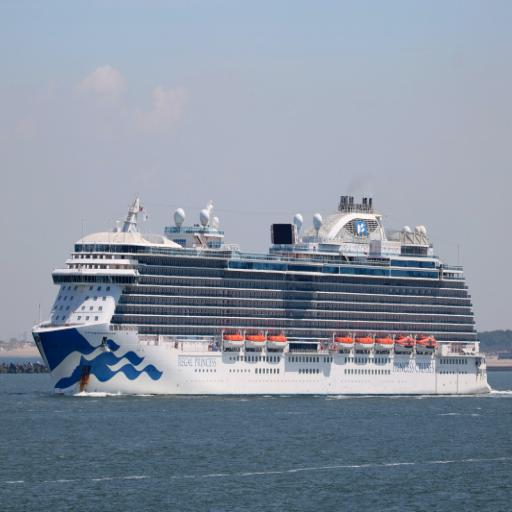cruises: (29, 191, 499, 407)
